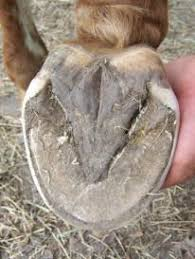horsesole: (21, 74, 181, 230)
